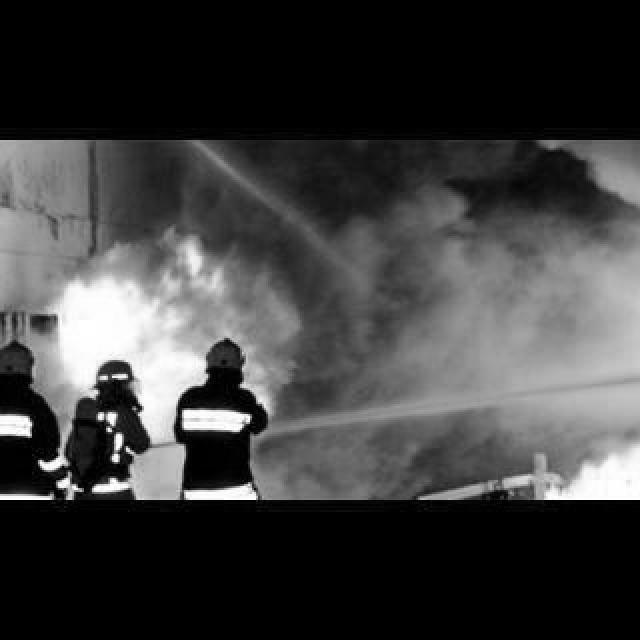Fire: (52, 232, 278, 402)
